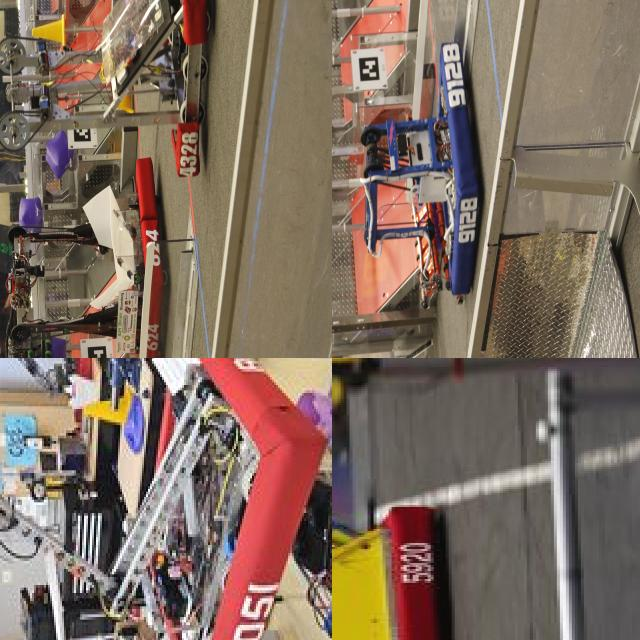FRC-Robots: (0, 358, 318, 640), (342, 22, 489, 305), (30, 0, 222, 174), (37, 180, 181, 358), (332, 483, 488, 640)
